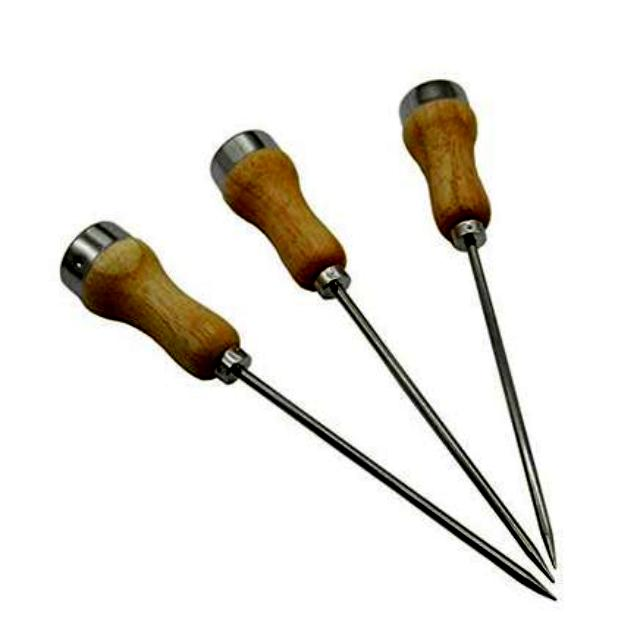ice pick: (57, 221, 559, 604), (212, 130, 554, 582), (399, 80, 556, 568)
